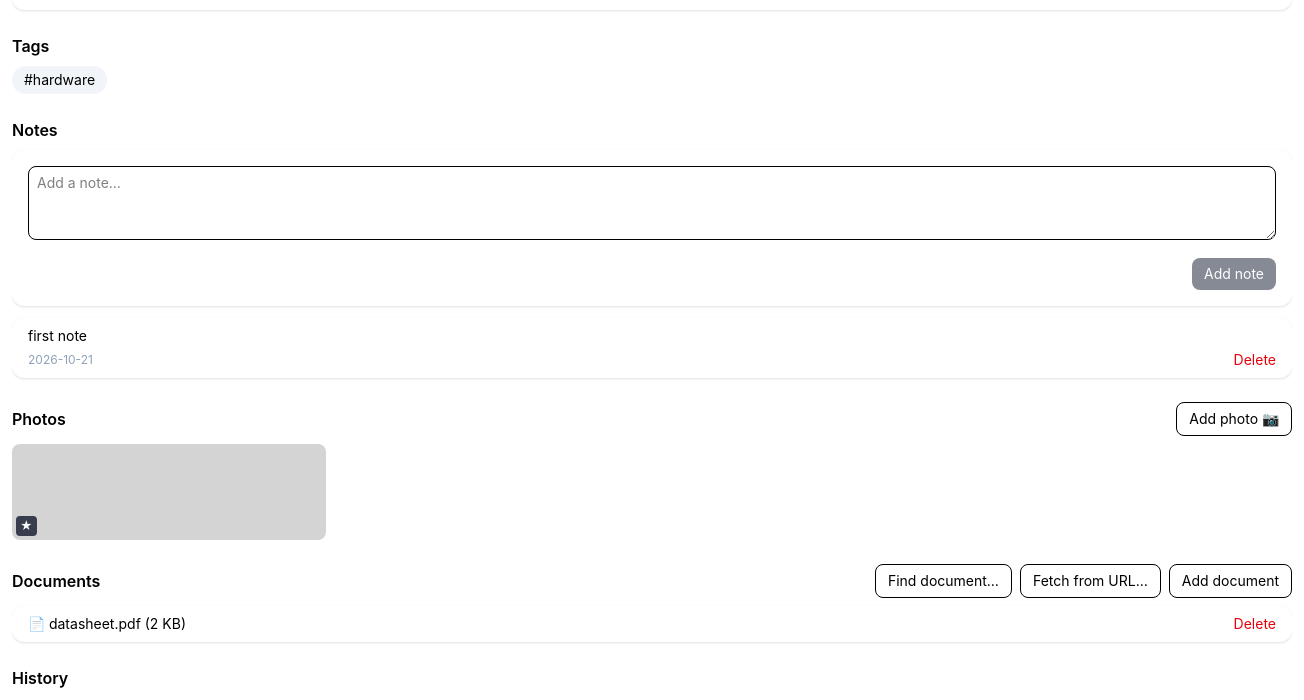
Test: ItemDetailView › deleting the only note falls back to the "No notes yet." empty state
(page scrolled)
Expected: the element showing "Notes Add note first note 2026-10-21 Delete" is shown, x1=12 y1=118 x2=1292 y2=378
Click the button "Delete" in the row of "2026-10-21".
click(1255, 360)  # box x1=1234 y1=350 x2=1276 y2=370
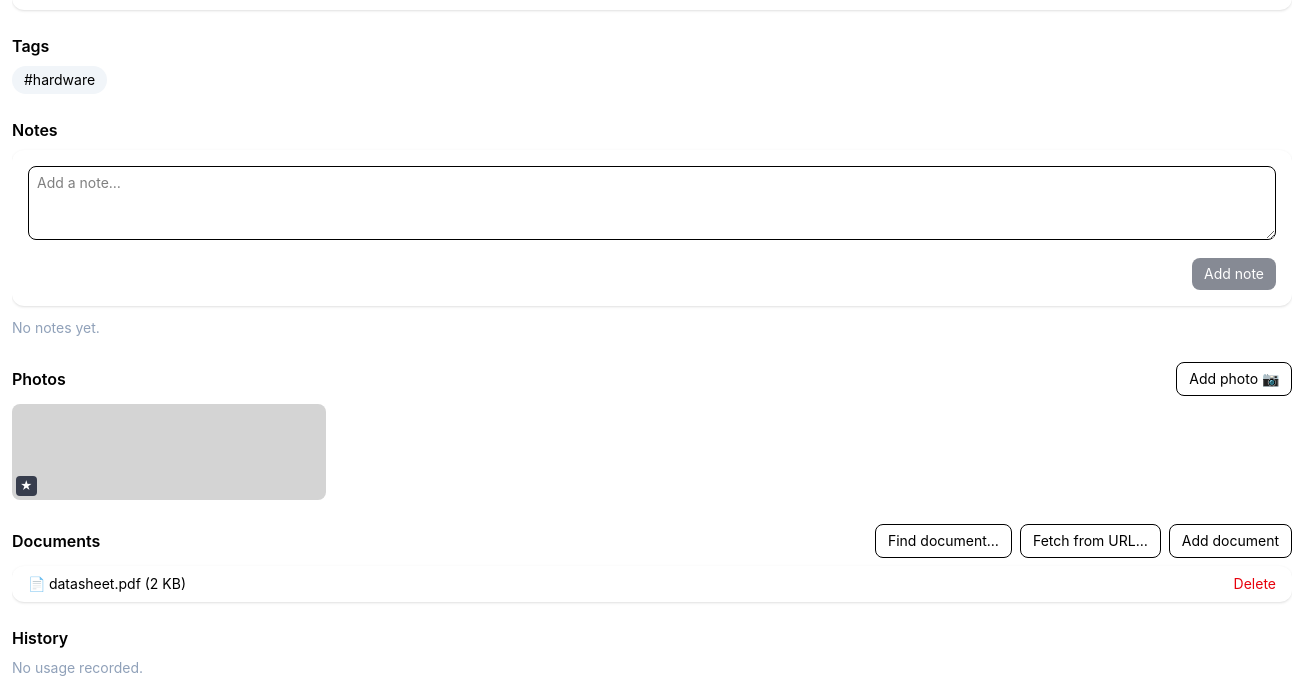
Expected: the element showing "Notes Add note No notes yet." is shown, x1=12 y1=118 x2=1292 y2=338
Expected: the text "first note" is gone
